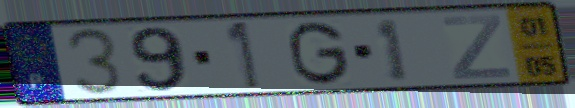1: (223, 19, 264, 92), (373, 16, 409, 85)
3: (64, 26, 125, 98)
9: (128, 25, 190, 95)
G: (286, 19, 353, 88)
Z: (438, 12, 514, 81)
